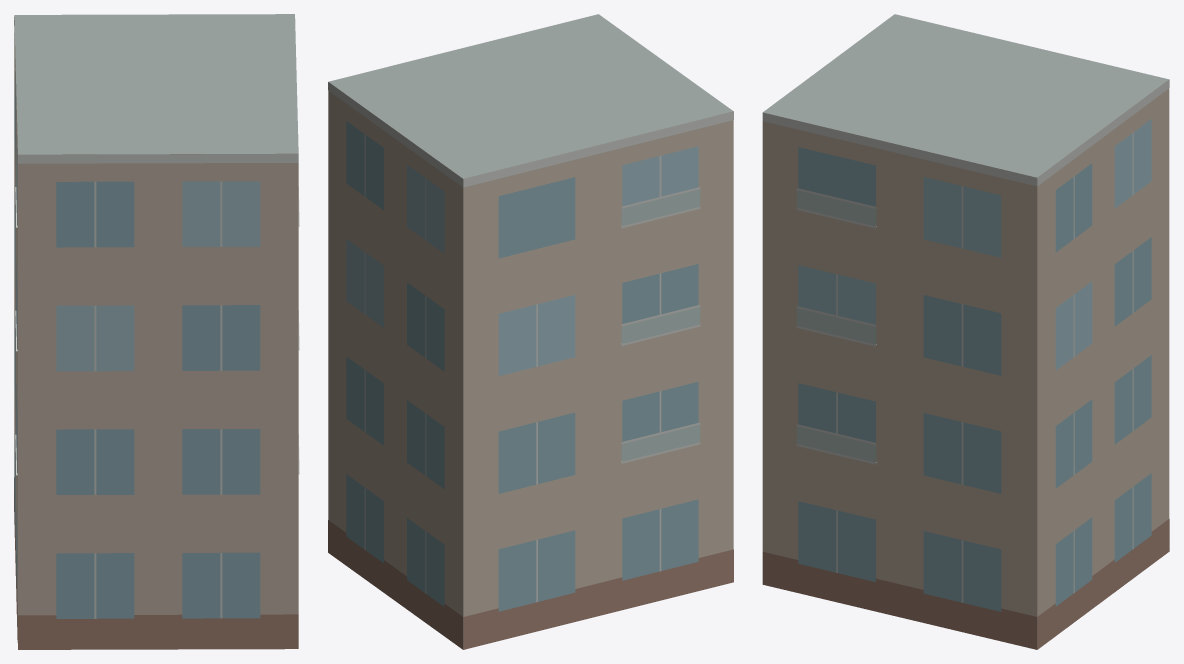
The model's file is survey-upis-32505680.glb.
3 views of the same model, side by side, from view 1: azimuth 30°, elevation 25°; view 2: azimuth 150°, elevation 25°; view 3: azimuth 270°, elevation 25° (orthographic). The views are drawn at different scales.
Parts seen in each view (by area): view 1: survey-upis-32505680.tmp; view 2: survey-upis-32505680.tmp; view 3: survey-upis-32505680.tmp.
Part boxes in pixels (<box>): survey-upis-32505680.tmp: <box>14,14,299,649</box>; survey-upis-32505680.tmp: <box>328,14,733,649</box>; survey-upis-32505680.tmp: <box>762,14,1169,649</box>.
Size of the model in its own units: 9.82 by 13.2 by 10.31.
